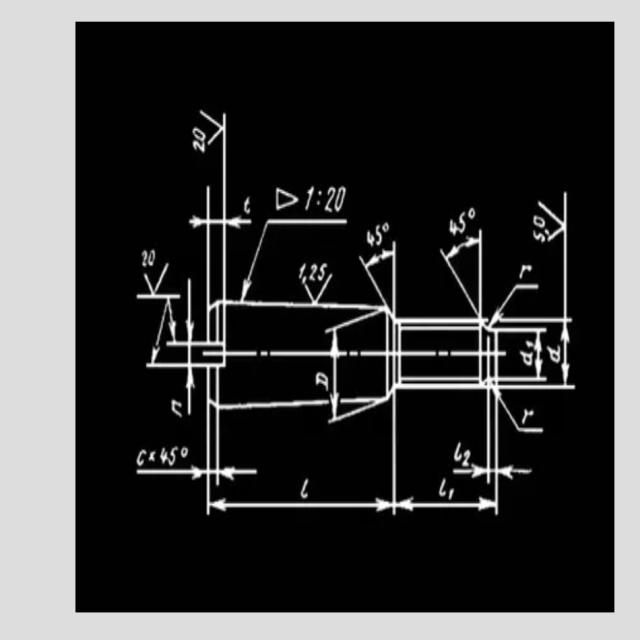marking_line: (134, 411, 556, 530), (392, 397, 503, 519), (240, 215, 351, 301), (193, 187, 254, 300), (500, 315, 572, 389), (439, 228, 488, 318), (451, 392, 492, 485), (210, 495, 391, 513), (501, 324, 549, 383), (499, 428, 533, 485), (147, 301, 169, 364), (136, 465, 206, 480), (329, 329, 340, 418), (196, 110, 222, 146), (143, 265, 169, 294), (183, 278, 194, 339), (183, 366, 195, 418), (221, 465, 259, 481), (168, 300, 179, 340)
numeric: (334, 186, 347, 214), (324, 187, 336, 212), (306, 186, 315, 212), (317, 261, 327, 283), (365, 228, 376, 248), (168, 444, 178, 465), (374, 225, 383, 248), (307, 262, 318, 280), (192, 125, 205, 140), (458, 212, 466, 235), (192, 141, 206, 154), (533, 215, 546, 229), (533, 229, 545, 244), (462, 447, 471, 467), (448, 219, 458, 236), (297, 262, 306, 280), (147, 249, 156, 266), (159, 447, 168, 464), (447, 486, 455, 501), (141, 249, 147, 268), (524, 340, 534, 350)
special_symbol: (356, 240, 403, 305), (490, 280, 541, 326), (536, 197, 564, 247), (297, 273, 334, 303), (275, 185, 299, 213), (180, 446, 189, 457), (469, 206, 476, 219), (383, 222, 390, 233), (316, 188, 322, 197), (316, 200, 320, 205)
